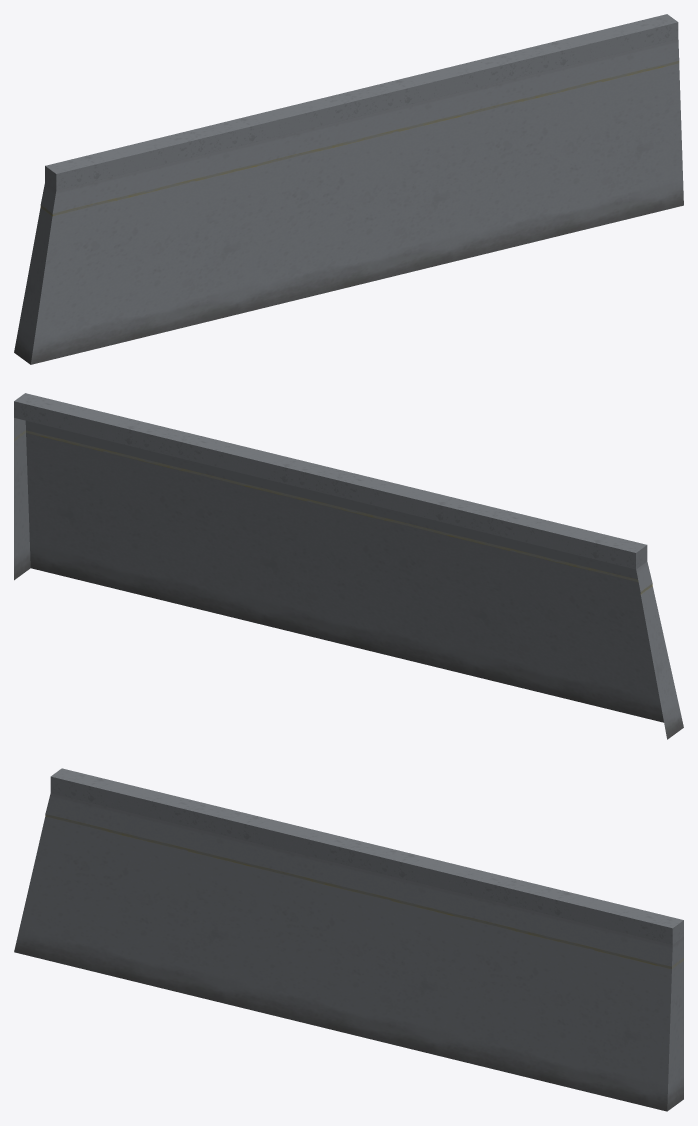
File: spaceStation_sidewalk_endR.fbx
3 renders of one model, top to bottom at view 1: azimuth 30°, elevation 25°; view 2: azimuth 150°, elevation 25°; view 3: azimuth 330°, elevation 25°, orthographic.
Parts seen in each view (by area): view 1: station_Sidewalk_EndCap, station_Sidewalk_EndCapTop; view 2: station_Sidewalk_EndCap, station_Sidewalk_EndCapTop; view 3: station_Sidewalk_EndCap, station_Sidewalk_EndCapTop.
Part boxes in pixels (x1=…): station_Sidewalk_EndCap: x1=14, y1=39, x2=683, y2=364; station_Sidewalk_EndCapTop: x1=45, y1=14, x2=678, y2=190; station_Sidewalk_EndCap: x1=14, y1=418, x2=683, y2=739; station_Sidewalk_EndCapTop: x1=14, y1=393, x2=647, y2=569; station_Sidewalk_EndCap: x1=14, y1=793, x2=683, y2=1111; station_Sidewalk_EndCapTop: x1=50, y1=768, x2=683, y2=944.
Bounding box in the file's own units: 8.4 × 2.2 × 0.3732.
2 materials, 2 textured.
